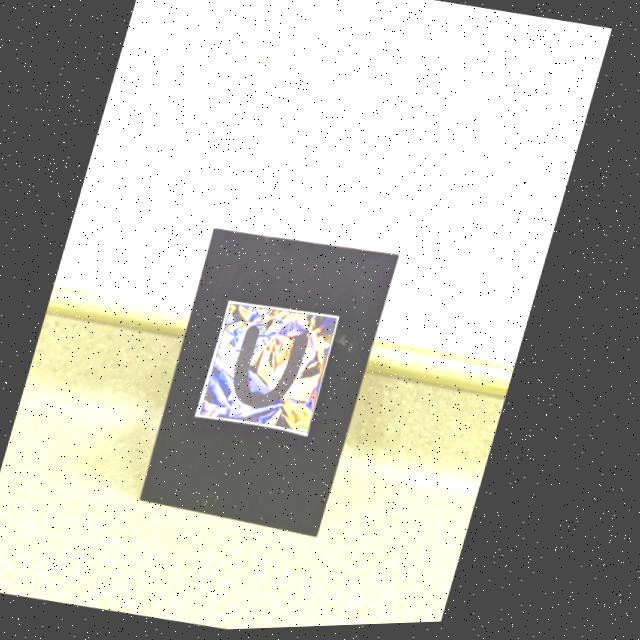U: (241, 328, 315, 410)
